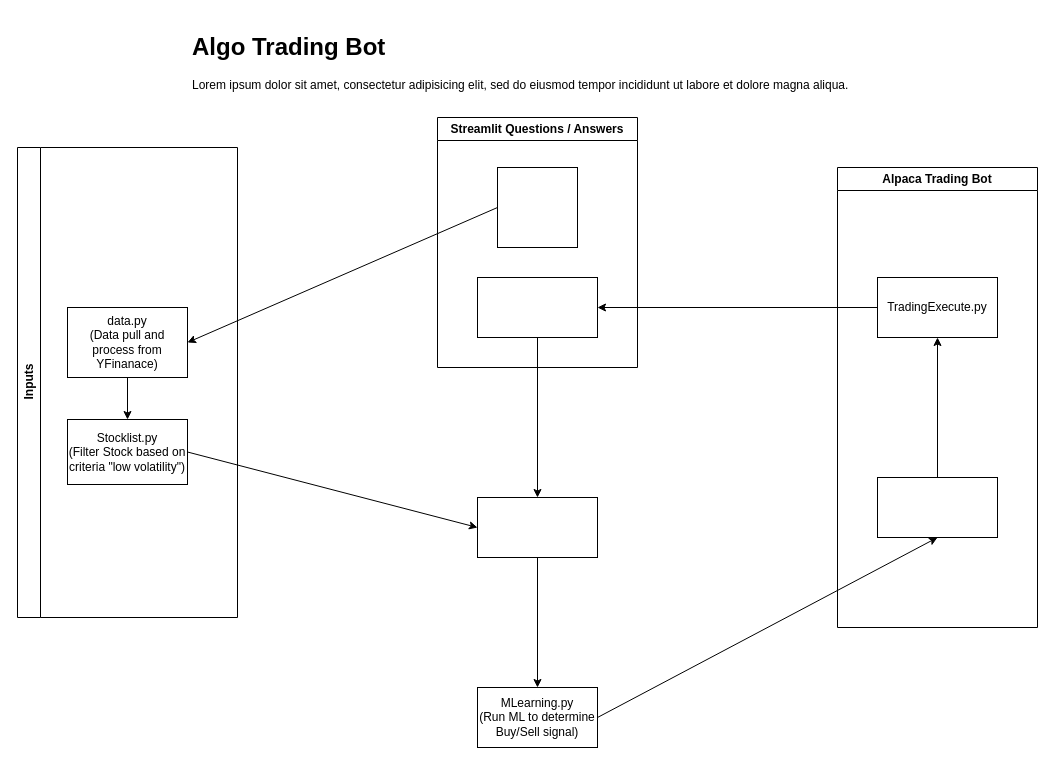
Some shapes in this 1055 by 765 pixel diagram are drawn without their labels. Each missing label, with the centre of its shape:
"app.py (????)" belongs at (537,307).
"Main.py" belongs at (537,207).
"Quant.py (Predict future stock price)" belongs at (537,527).
"TradingStrategy.py" belongs at (937,507).
